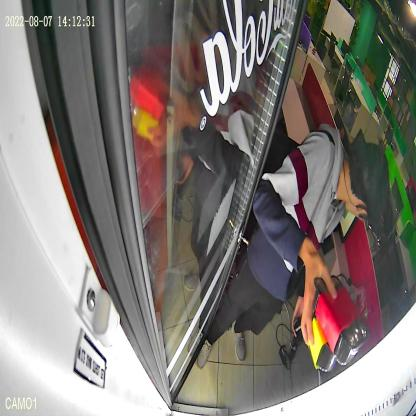red: (314, 275, 370, 366)
yellow: (308, 314, 337, 373)
